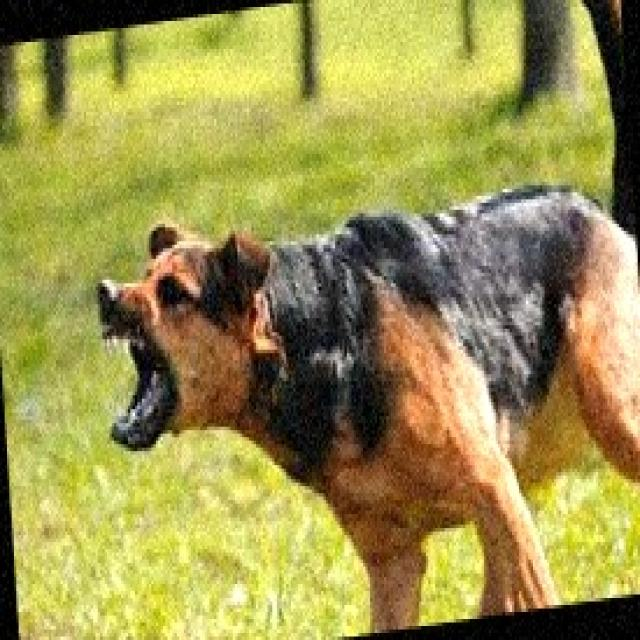angry: (79, 148, 640, 640)
